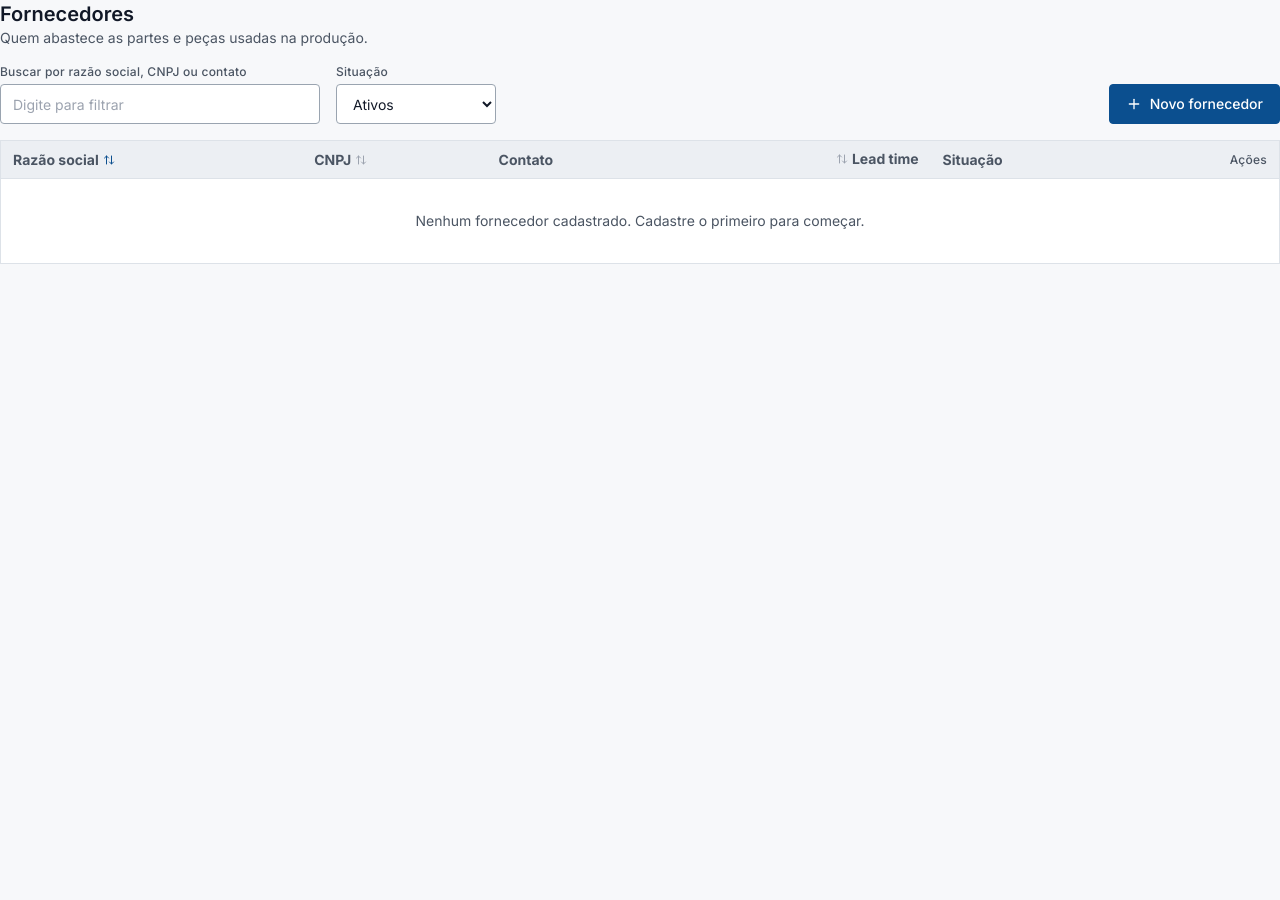
it: Fornecedores › novo fornecedor nasce com o lead time padrao dos Parametros de negocio
The image size is (1280, 900).
Expected: the text "Nenhum fornecedor cadastrado" is shown, [416,212,864,229]
Click the button "Novo fornecedor": (1194, 104) [1109,84,1279,124]
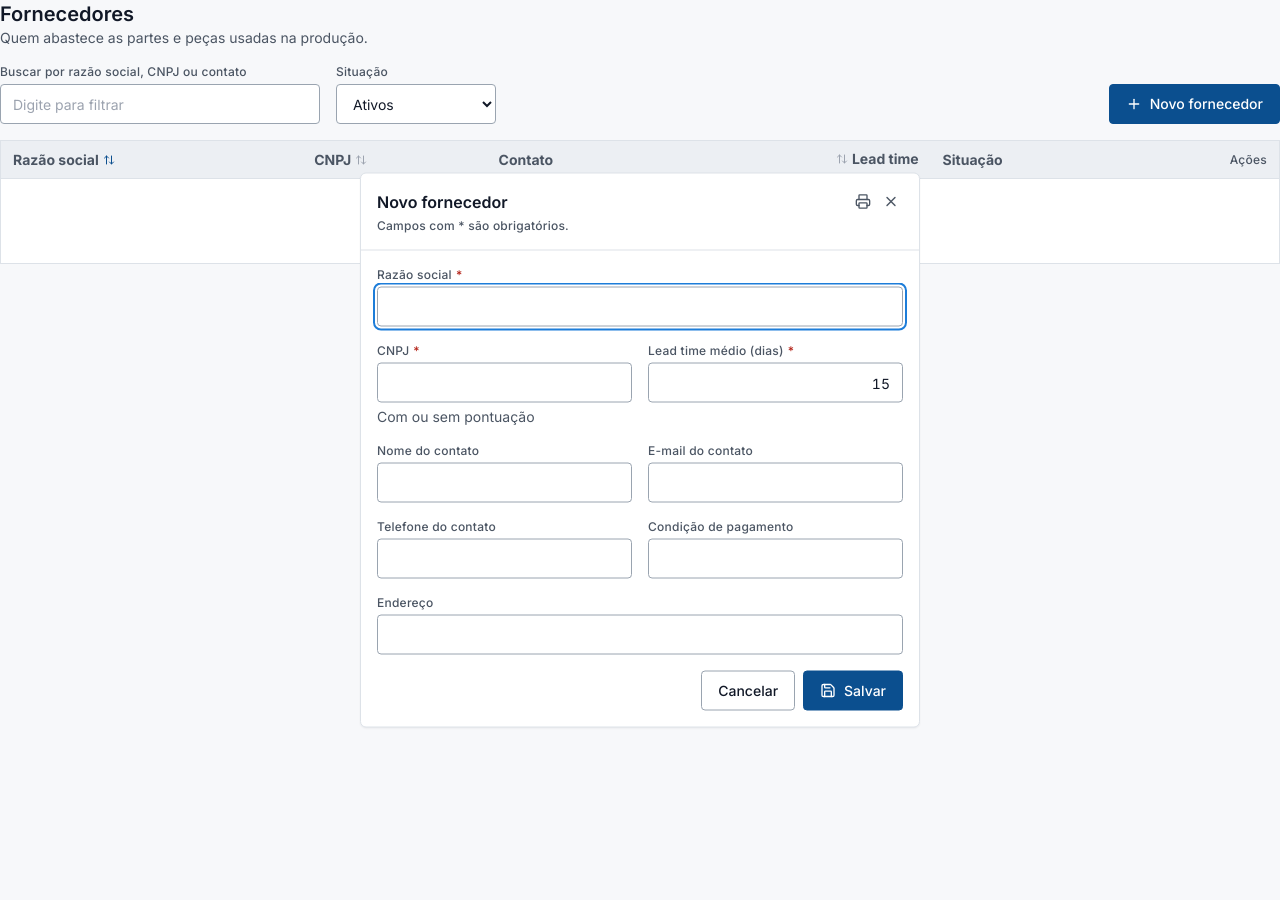
Expected: the field labelled "Lead time médio (dias)*" holds "15", [648,362,903,402]
